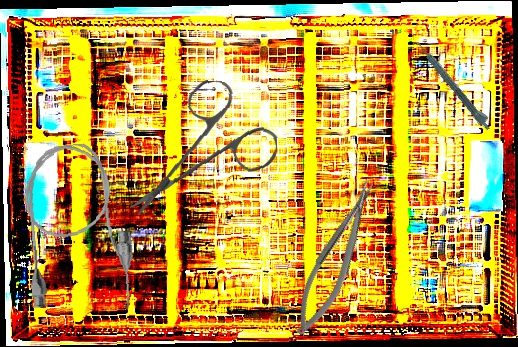Cannula: (16, 139, 139, 319)
Handpiece: (414, 36, 496, 133)
Iris Scissors: (129, 75, 282, 225)
Needle Holder: (282, 176, 391, 342)
